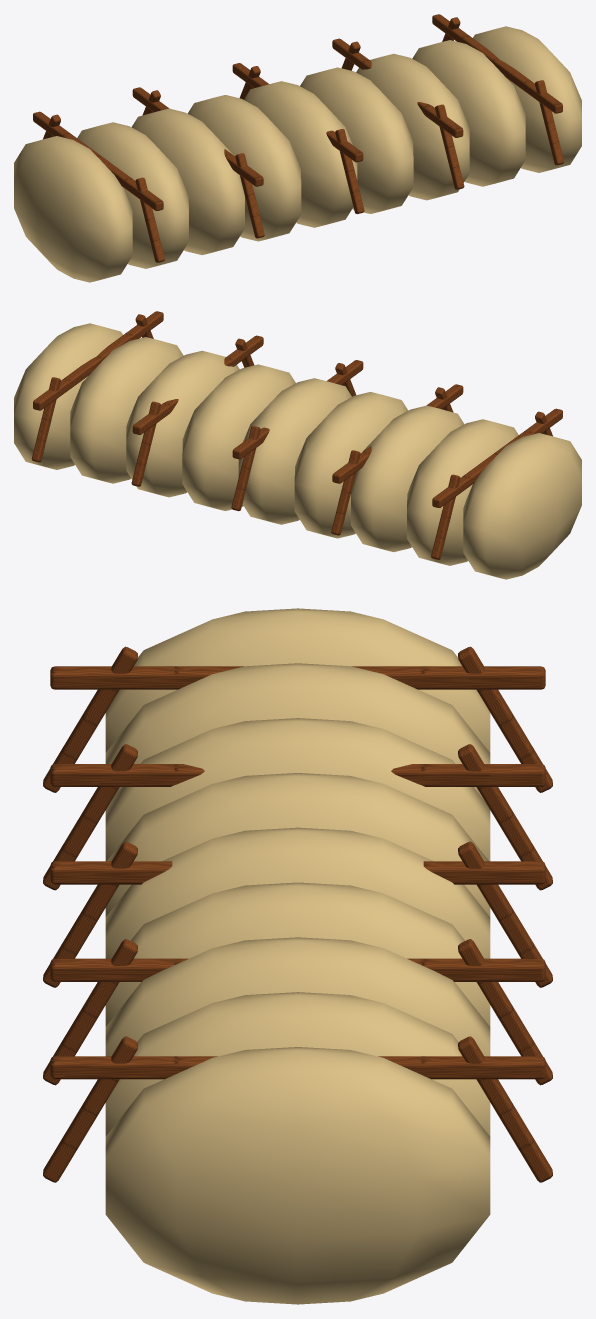
File: witch-cottage-and-apothecary-thatch-ridge-cap-f23ab902__32442.glb
3 views of the same model, one above another, from view 1: azimuth 30°, elevation 25°; view 2: azimuth 150°, elevation 25°; view 3: azimuth 270°, elevation 25° (orthographic). The views are drawn at different scales.
Visible parts, largest first — view 1: thatch-ridge-cap; view 2: thatch-ridge-cap; view 3: thatch-ridge-cap.
Part boxes in pixels (x1,y1,x2,y2): thatch-ridge-cap: [14, 14, 581, 282]; thatch-ridge-cap: [14, 311, 581, 579]; thatch-ridge-cap: [43, 608, 552, 1304].
Bounding box in the file's own units: 2.09 × 0.48 × 0.8843.
2 materials, 1 textured.
